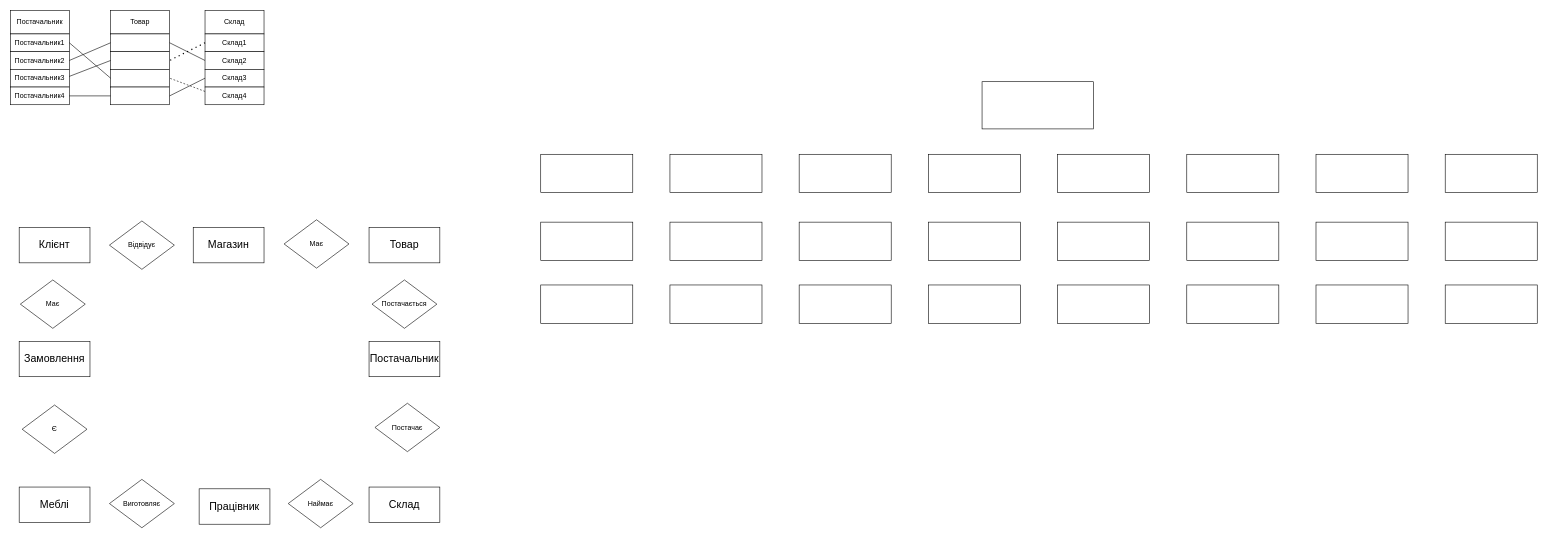
Some shapes in this 1548 by 538 pixel diagram are drawn without their labels. The box of each missing label's shape, as (x1, y1, x2, y2) in pixels:
Товар1: (110, 33, 170, 52)
Товар2: (110, 51, 170, 69)
Товар3: (110, 69, 170, 87)
Товар4: (110, 86, 170, 105)
